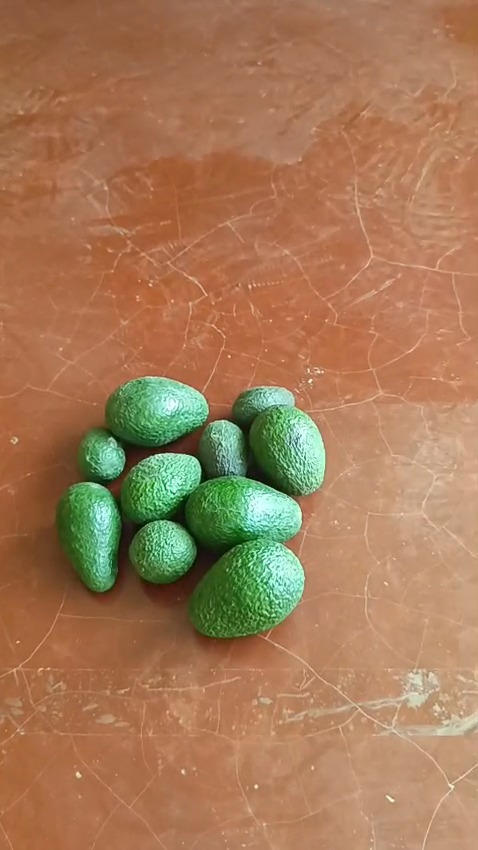Primera: (187, 538, 305, 637), (184, 474, 302, 550), (103, 374, 210, 446), (247, 404, 324, 495)
Segunda: (55, 481, 123, 593), (119, 452, 204, 524)
Tercera: (126, 517, 199, 584), (197, 418, 249, 479), (230, 384, 296, 428), (76, 426, 126, 484)
